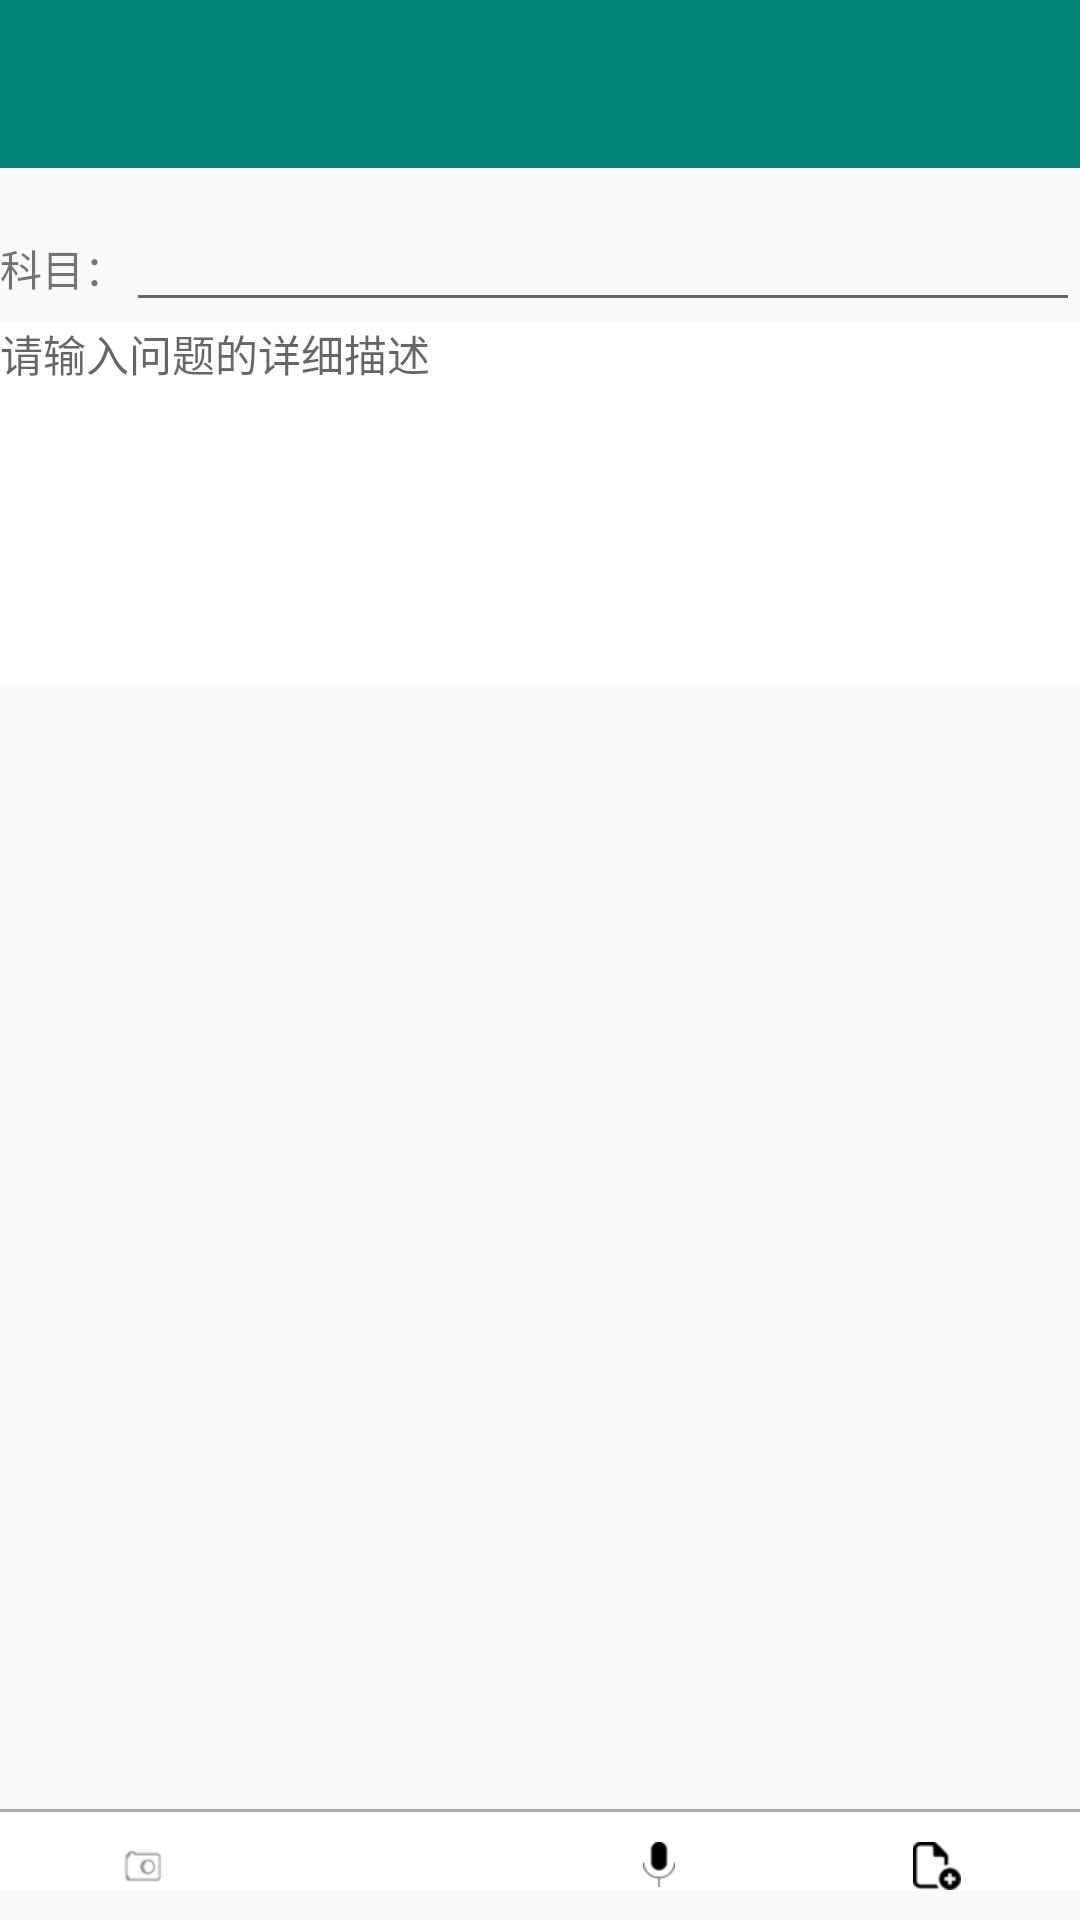

Icon bounding boxes for this 1080×1920 phone screenshot, format (x1, y1, x2, y2):
camera: (125, 1851, 161, 1881)
soundrecord: (643, 1842, 675, 1887)
uploadfile: (913, 1842, 961, 1890)
